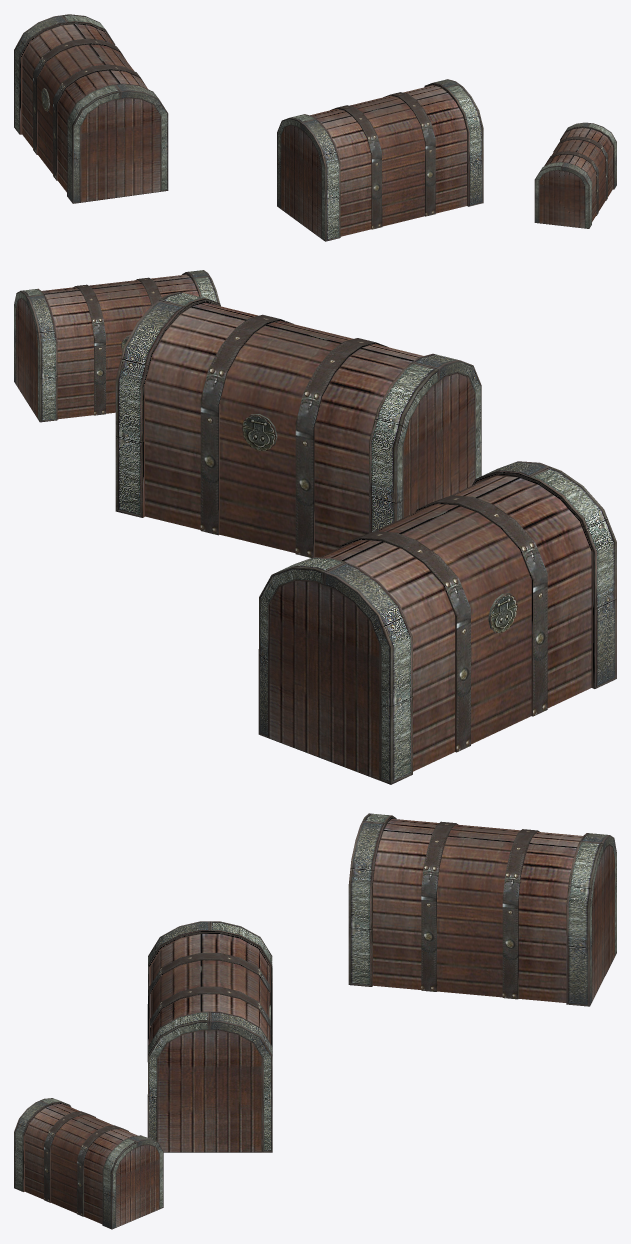
The model's file is chests.obj.
3 renders of one model, top to bottom at view 1: azimuth 30°, elevation 25°; view 2: azimuth 150°, elevation 25°; view 3: azimuth 270°, elevation 25°, orthographic. The views are drawn at different scales.
Parts seen in each view (by area): view 1: treasure_chest.002, treasure_chest.001, treasure_chest; view 2: treasure_chest.001, treasure_chest.002, treasure_chest; view 3: treasure_chest.001, treasure_chest.002, treasure_chest.
Boxes of the visible parts, left/top/right/bottom form: treasure_chest.002: left=277, top=79, right=483, bottom=241; treasure_chest.001: left=14, top=14, right=168, bottom=203; treasure_chest: left=534, top=122, right=616, bottom=228; treasure_chest.001: left=258, top=461, right=616, bottom=784; treasure_chest.002: left=115, top=292, right=481, bottom=557; treasure_chest: left=14, top=270, right=219, bottom=422; treasure_chest.001: left=348, top=813, right=616, bottom=1006; treasure_chest.002: left=147, top=921, right=272, bottom=1152; treasure_chest: left=14, top=1098, right=163, bottom=1229.
Size of the model in its own units: 3.21 by 0.8348 by 2.93.
1 material, 1 textured.
